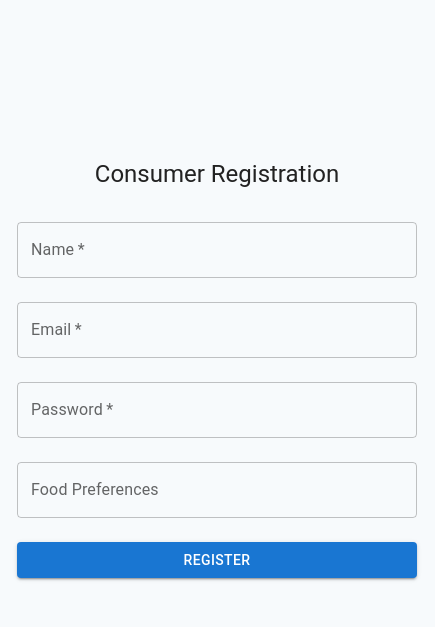
Test: ConsumerRegistrationForm › renders and submits the form
The image size is (435, 627).
Step 1. Type "Jane Doe" into the field labelled "Name *" → (217, 250), box [17,222,417,278]
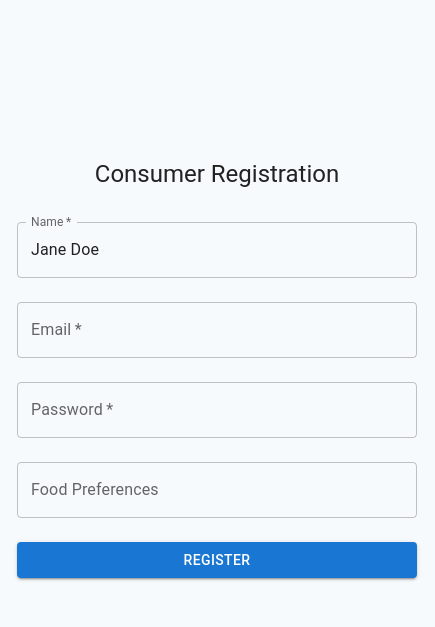
Step 2. Type "jane@example.com" into the field labelled "Email *" → (217, 330), box [17,302,417,358]
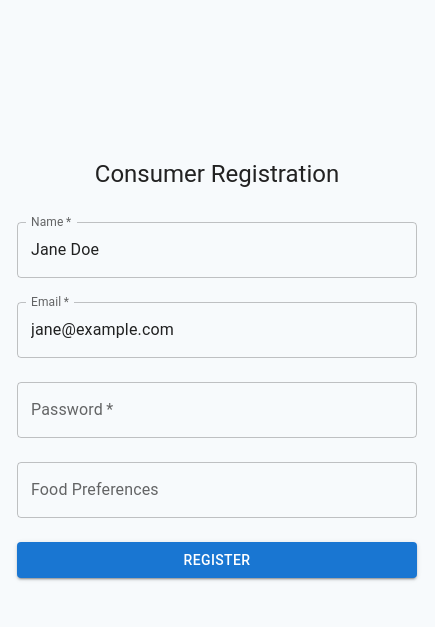
Step 3. Type "password123" into the password field labelled "Password *" → (217, 410), box [17,382,417,438]
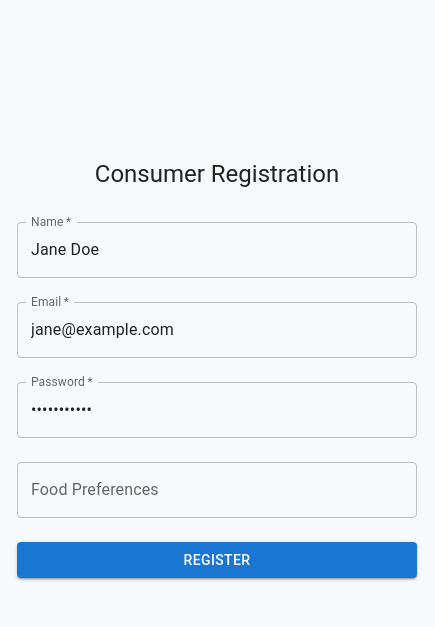
Step 4. Type "Vegetarian" into the field labelled "Food Preferences" → (217, 490), box [17,462,417,518]
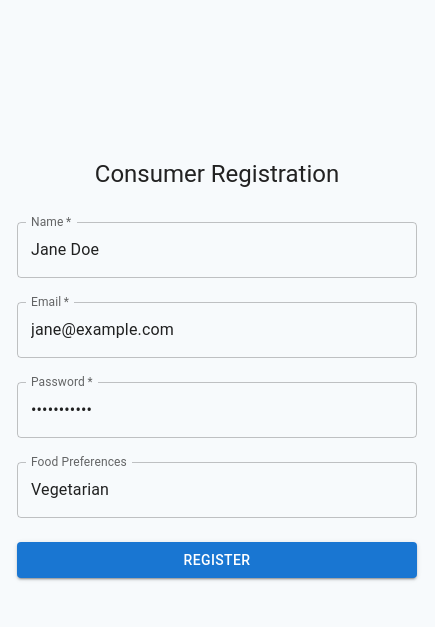
Step 5. Click the button "Register" → (217, 560), box [17,542,417,578]
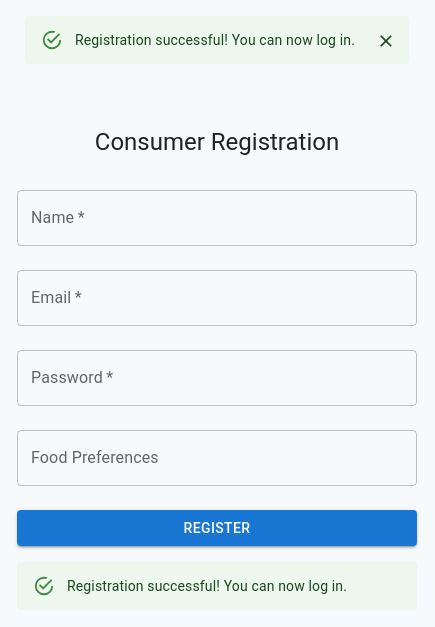
Result: the text "Registration successful! You can now log in." below "Food Preferences" is shown at [67,578,347,594]
